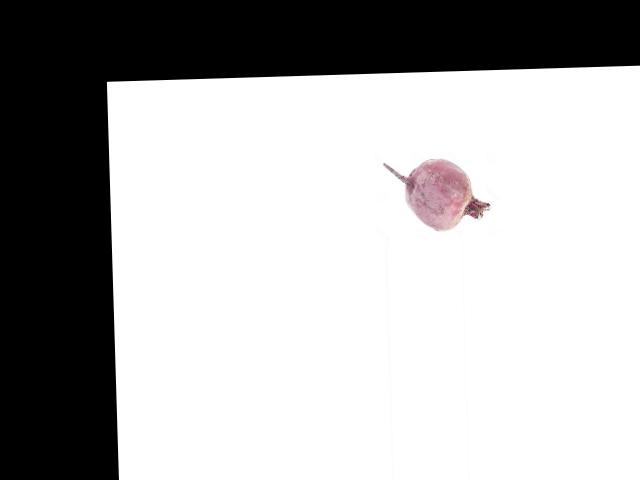beet: (383, 156, 492, 232)
